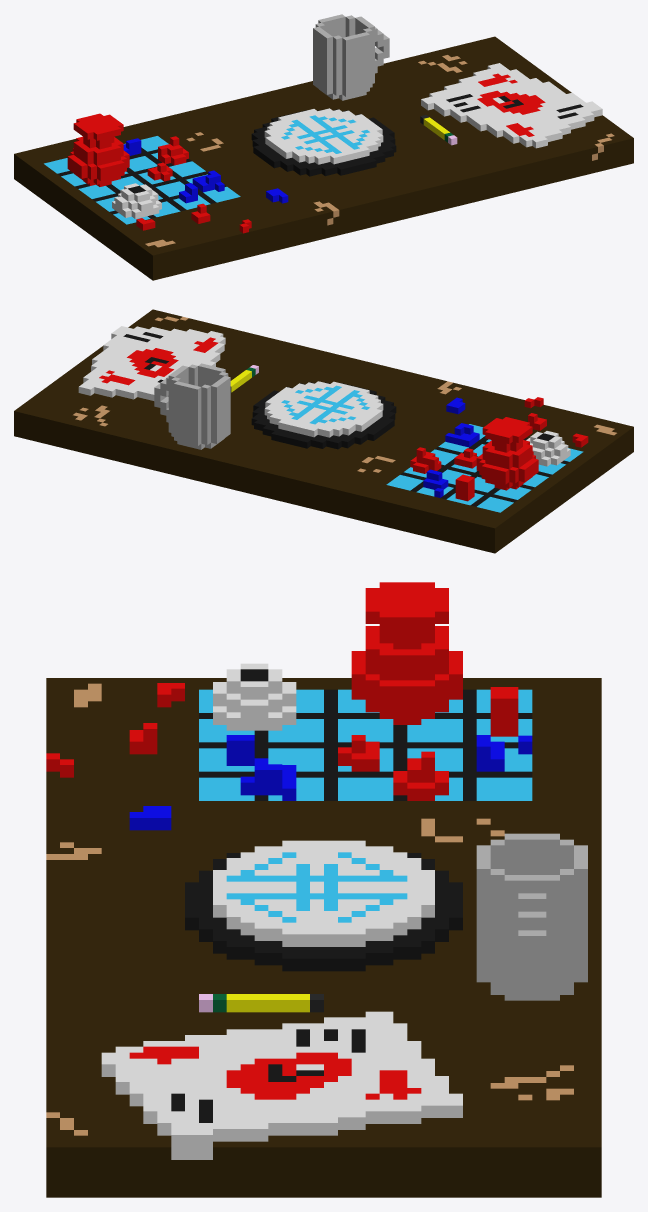
The model's file is summonTable.obj.
The picture shows the model from 3 angles, top to bottom: view 1: azimuth 30°, elevation 25°; view 2: azimuth 150°, elevation 25°; view 3: azimuth 270°, elevation 25°; orthographic projection. The views are drawn at different scales.
Bounding box in the file's own units: 8 × 1.4 × 4.
1 material, 1 textured.
